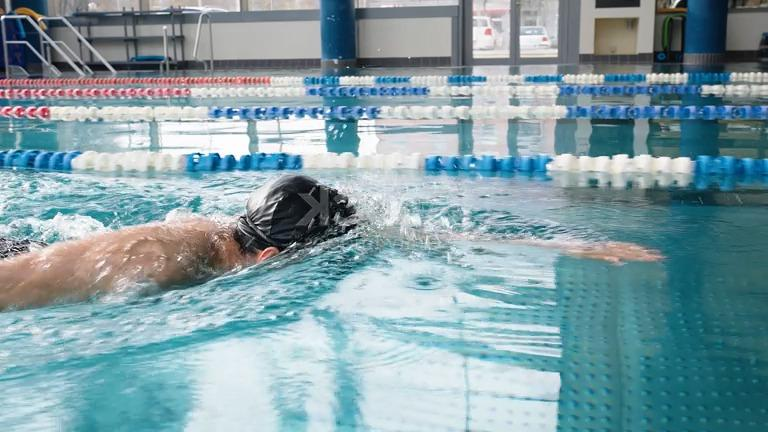Swimming: (20, 79, 734, 378)
